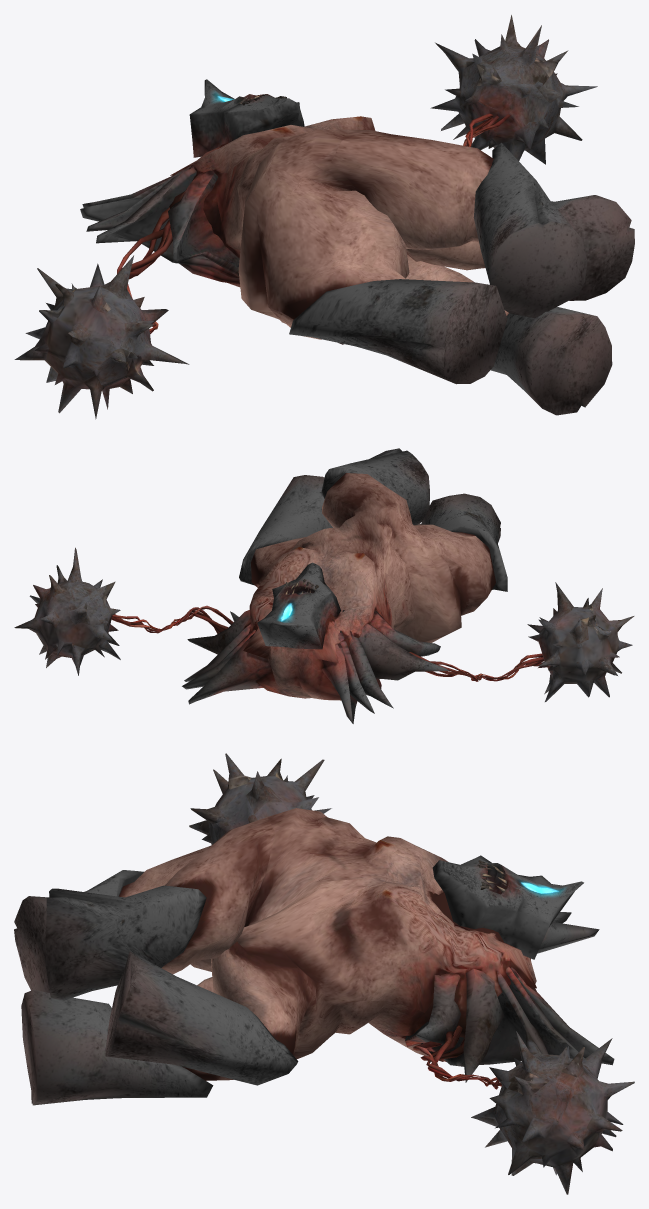
The model's file is FatGuyDead_LOD2.fbx.
The picture shows the model from 3 angles, top to bottom: view 1: azimuth 30°, elevation 25°; view 2: azimuth 150°, elevation 25°; view 3: azimuth 270°, elevation 25°; orthographic projection. The views are drawn at different scales.
Visible parts, largest first — view 1: FatGuyDead_LOD2; view 2: FatGuyDead_LOD2; view 3: FatGuyDead_LOD2.
Boxes of the visible parts, x1,y1,x2,y2 form: FatGuyDead_LOD2: (14, 15, 634, 419); FatGuyDead_LOD2: (14, 448, 634, 723); FatGuyDead_LOD2: (14, 753, 634, 1194).
Size of the model in its own units: 6.15 by 1.87 by 4.6.
